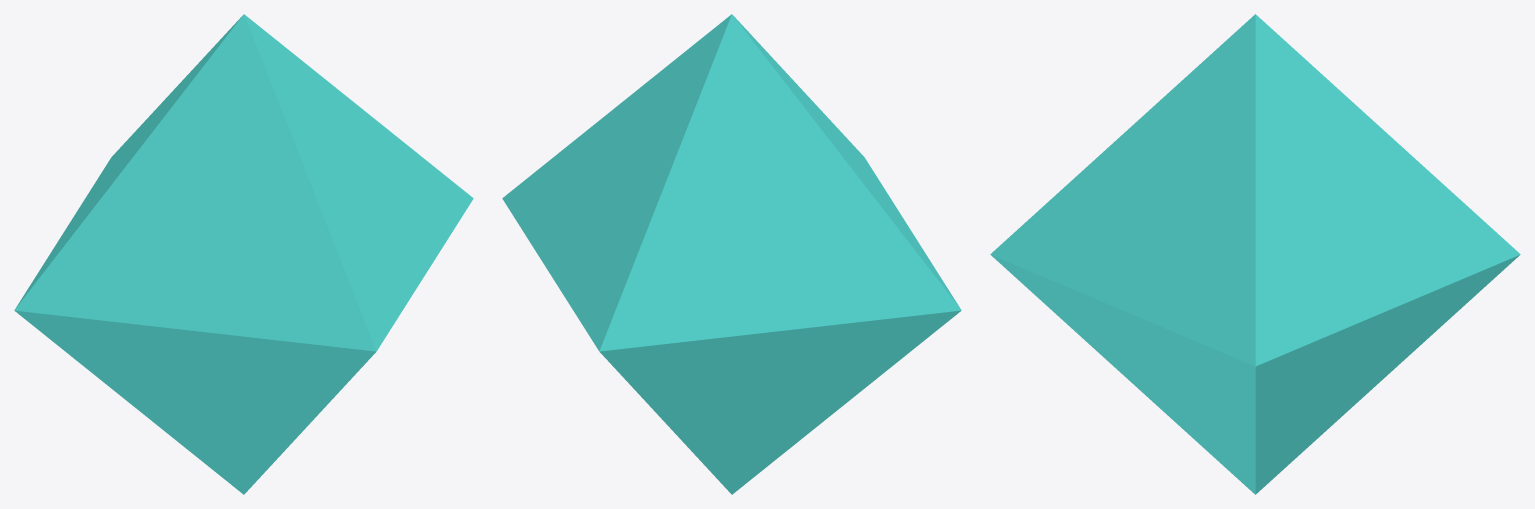
File: orb_reflected.glb
The picture shows the model from 3 angles, left to right: view 1: azimuth 30°, elevation 25°; view 2: azimuth 150°, elevation 25°; view 3: azimuth 270°, elevation 25°; orthographic projection.
Parts seen in each view (by area): view 1: mesh_orb; view 2: mesh_orb; view 3: mesh_orb.
Part boxes in pixels (x1,y1,x2,y2): mesh_orb: (14,14,473,494); mesh_orb: (502,14,961,494); mesh_orb: (990,14,1520,494).
Bounding box in the file's own units: 0.48 × 0.48 × 0.48.
